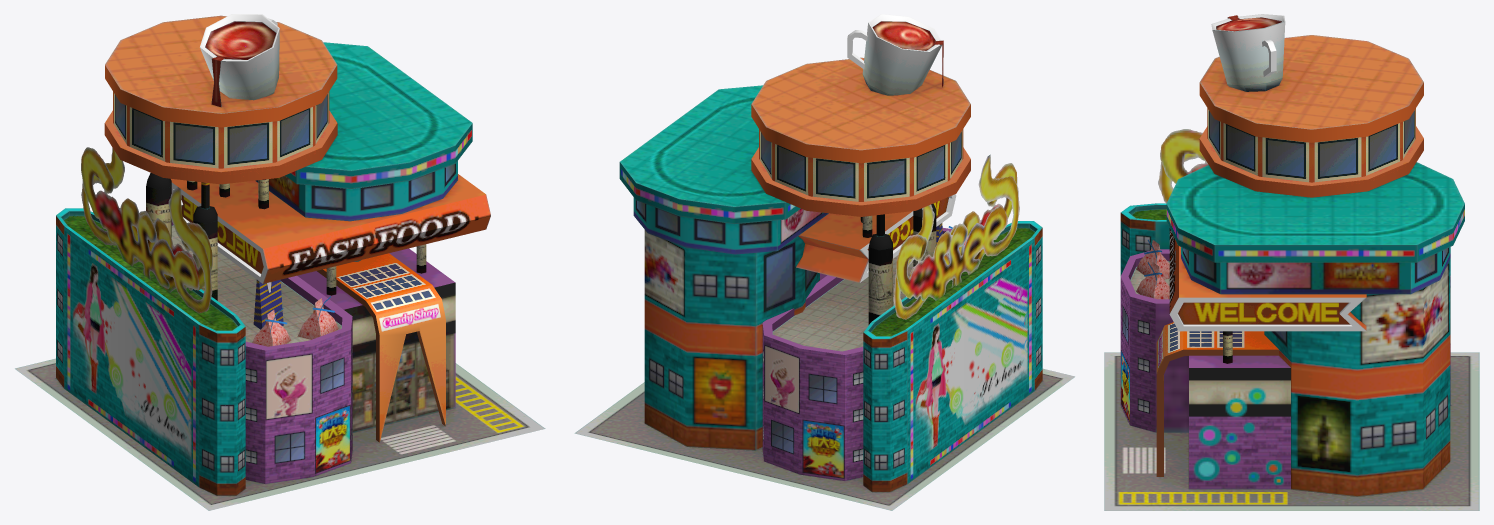
File: kuaicandian.FBX
3 renders of one model, left to right at view 1: azimuth 30°, elevation 25°; view 2: azimuth 150°, elevation 25°; view 3: azimuth 270°, elevation 25°, orthographic. The views are drawn at different scales.
Parts seen in each view (by area): view 1: kuaicandian; view 2: kuaicandian; view 3: kuaicandian.
Boxes of the visible parts, x1=… form: kuaicandian: x1=15, y1=14, x2=545, y2=510; kuaicandian: x1=574, y1=14, x2=1074, y2=510; kuaicandian: x1=1104, y1=14, x2=1479, y2=510.
Size of the model in its own units: 1342 by 1535 by 1342.
1 material, 1 textured.
